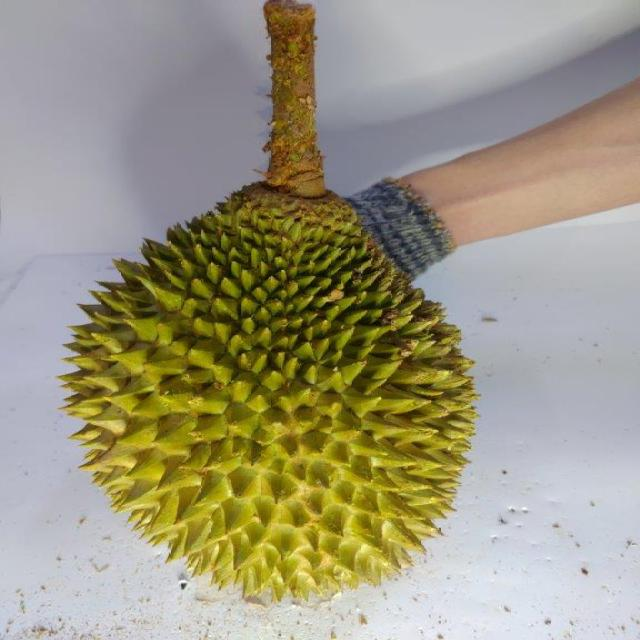mature: (62, 182, 489, 597)
